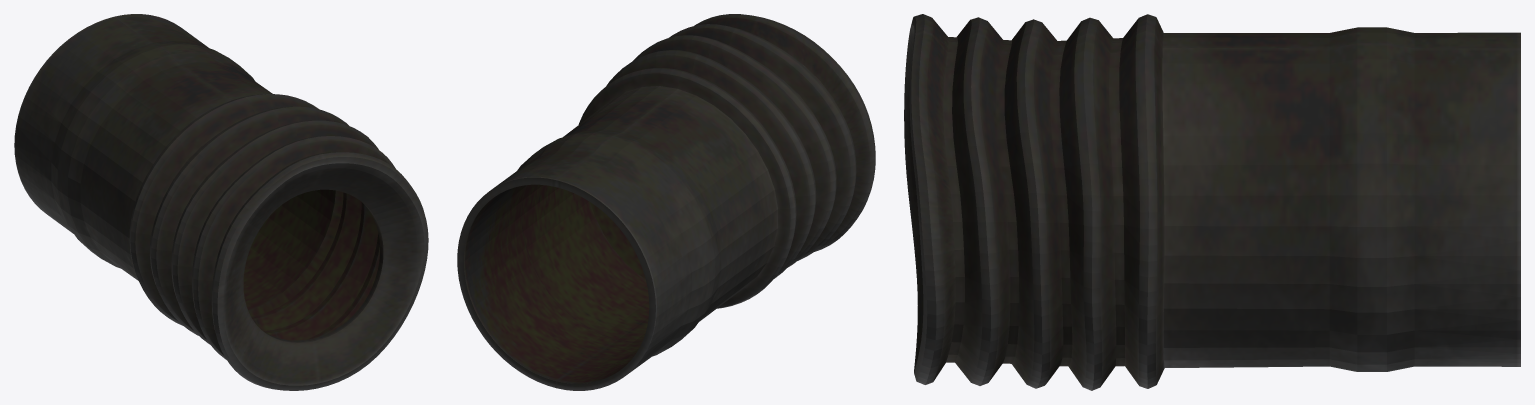
3 renders of one model, left to right at view 1: azimuth 30°, elevation 25°; view 2: azimuth 150°, elevation 25°; view 3: azimuth 270°, elevation 25°, orthographic. The views are drawn at different scales.
Visible parts, largest first — view 1: TW_5d0b5cd3d7ad1a3fe32ad263_PZ_Import; view 2: TW_5d0b5cd3d7ad1a3fe32ad263_PZ_Import; view 3: TW_5d0b5cd3d7ad1a3fe32ad263_PZ_Import.
Part boxes in pixels (<box>): TW_5d0b5cd3d7ad1a3fe32ad263_PZ_Import: <box>14,14,428,390</box>; TW_5d0b5cd3d7ad1a3fe32ad263_PZ_Import: <box>457,14,875,390</box>; TW_5d0b5cd3d7ad1a3fe32ad263_PZ_Import: <box>904,14,1520,390</box>.
Size of the model in its own units: 0.0298 by 0.0489 by 0.0299.
Materials: 1 (1 with a texture image).
